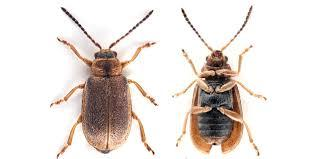Insects: (48, 4, 161, 158), (170, 5, 268, 158)
